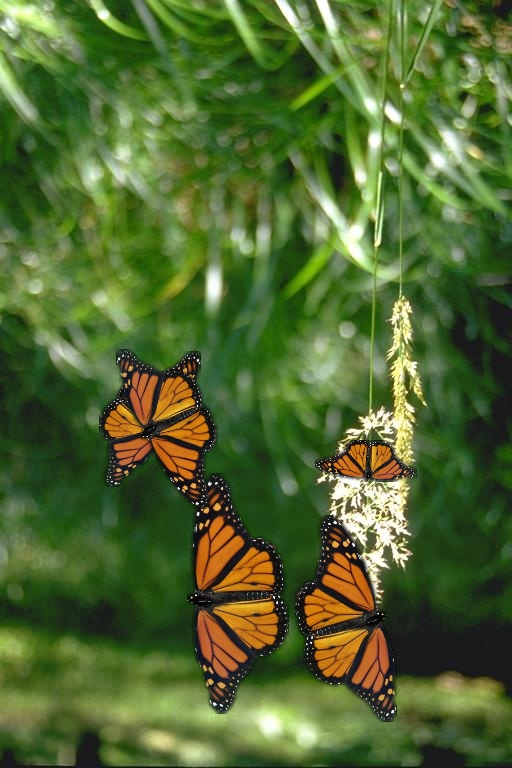danaus_plexippus: (187, 473, 289, 714), (295, 515, 397, 722), (116, 349, 218, 509), (99, 351, 201, 487), (315, 440, 417, 482)
